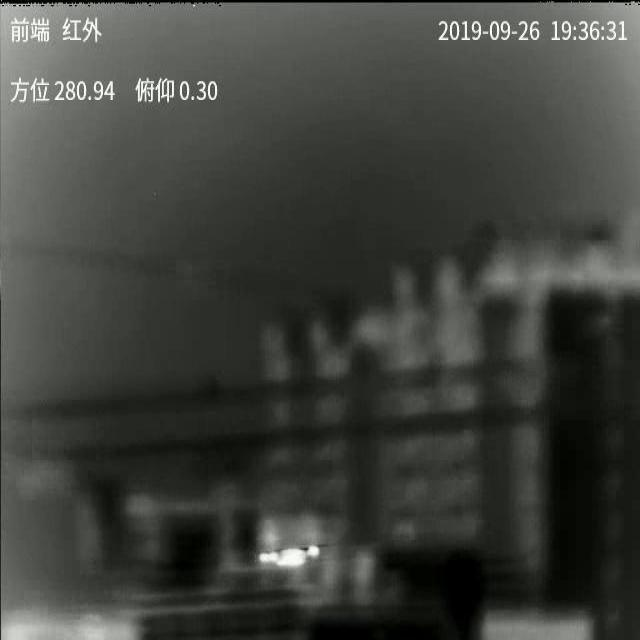drone: (253, 544, 331, 567)
